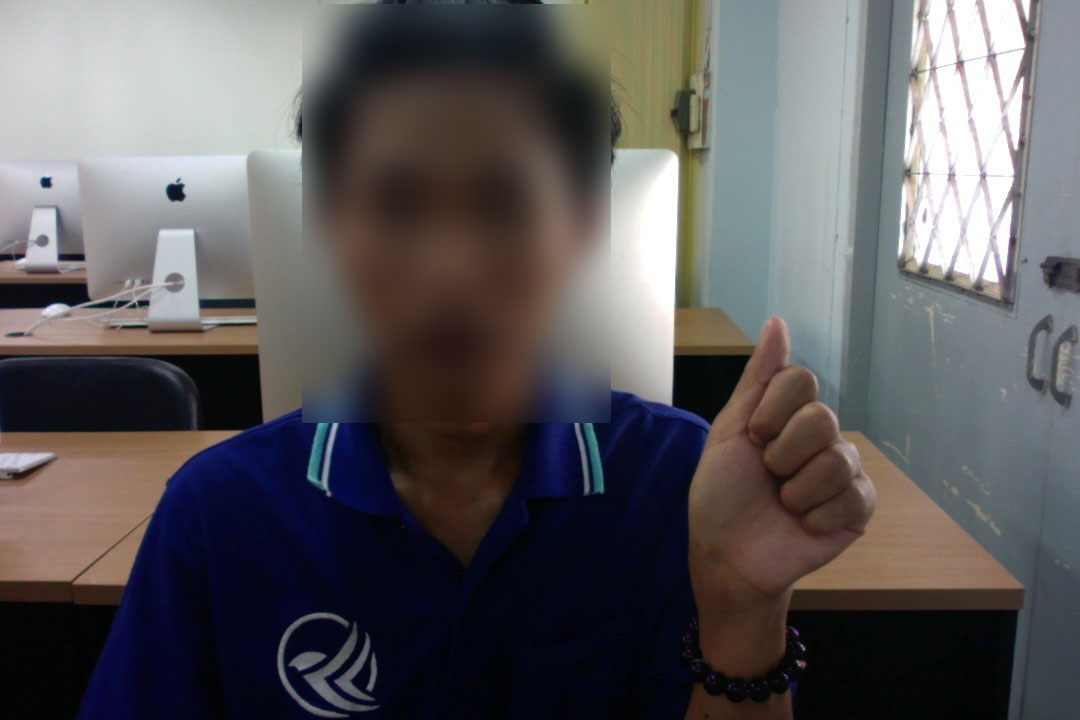or: (679, 302, 880, 596)
